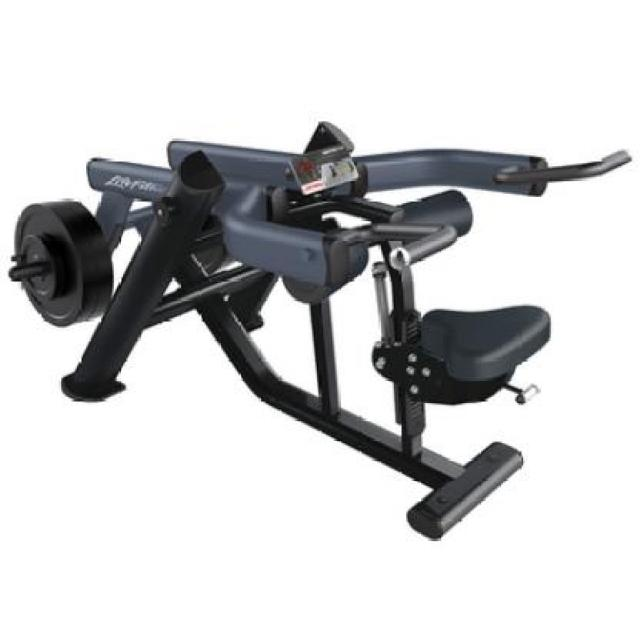seated dip machine: (12, 121, 632, 542)
